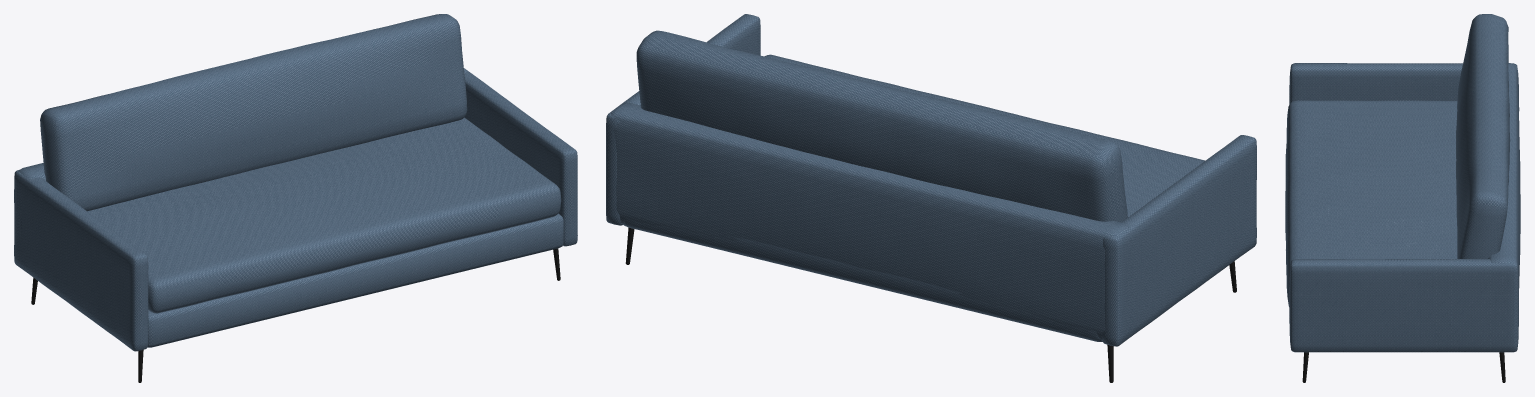
Rendered from sofa_cama_cerrado.glb.
The picture shows the model from 3 angles, left to right: view 1: azimuth 30°, elevation 25°; view 2: azimuth 150°, elevation 25°; view 3: azimuth 270°, elevation 25°; orthographic projection. The views are drawn at different scales.
Visible parts, largest first — view 1: sofa_cama_cerrado; view 2: sofa_cama_cerrado; view 3: sofa_cama_cerrado.
Boxes of the visible parts, x1=… form: sofa_cama_cerrado: x1=14, y1=14, x2=577, y2=382; sofa_cama_cerrado: x1=606, y1=14, x2=1256, y2=382; sofa_cama_cerrado: x1=1285, y1=14, x2=1520, y2=382.
Bounding box in the file's own units: 2 × 0.8549 × 0.9806.
2 materials, 1 textured.
